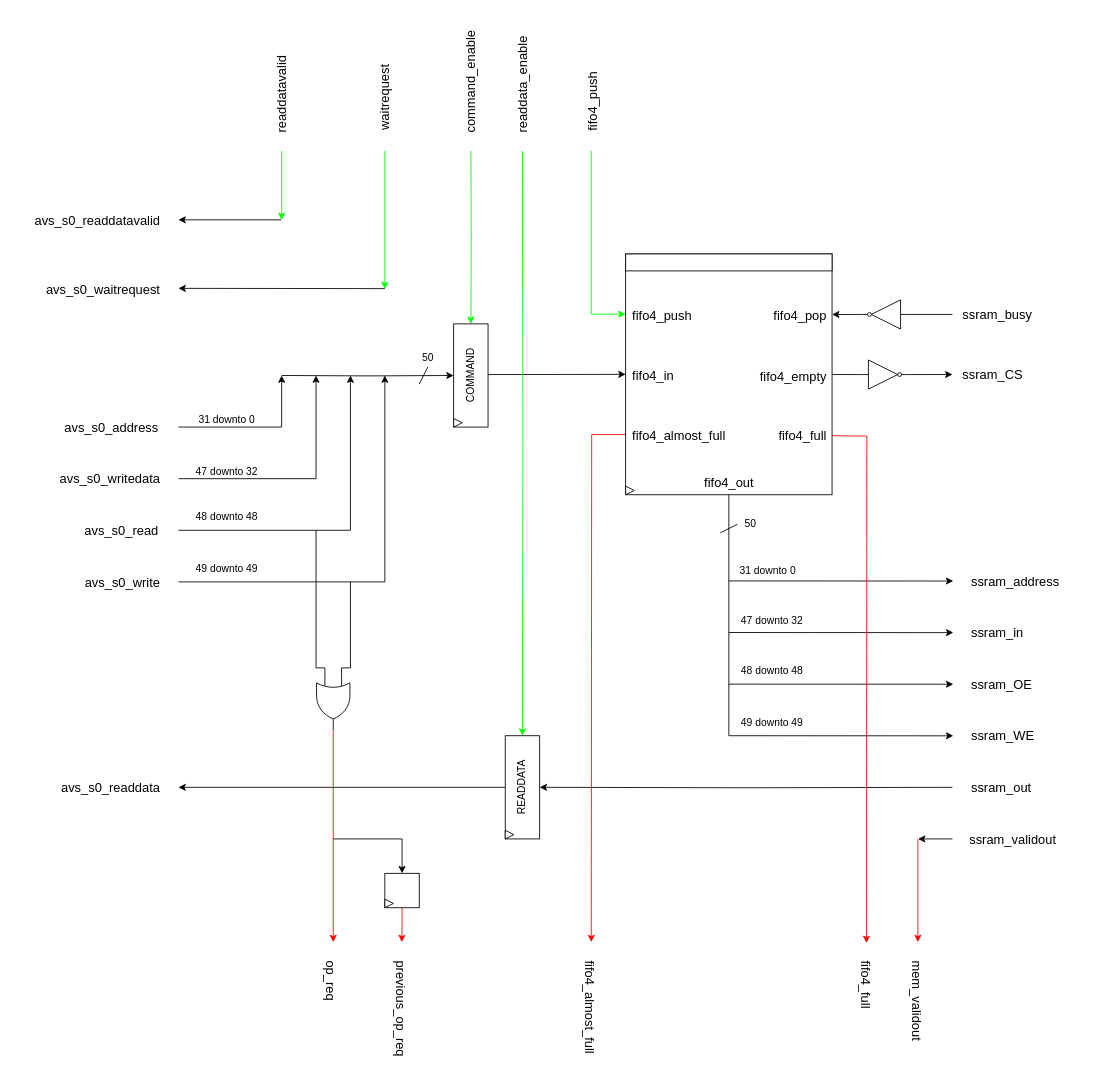
This 1096x1086 diagram has some shape labels left out. Here are the shapes that lost their labels. From the top down, the centre of each, then its label:
[728,262]: FIFO4
[401,890]: POR
